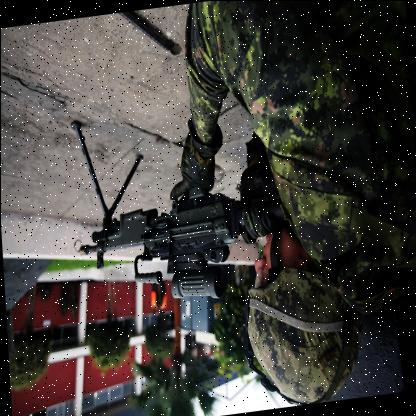rifle: (72, 164, 298, 310)
